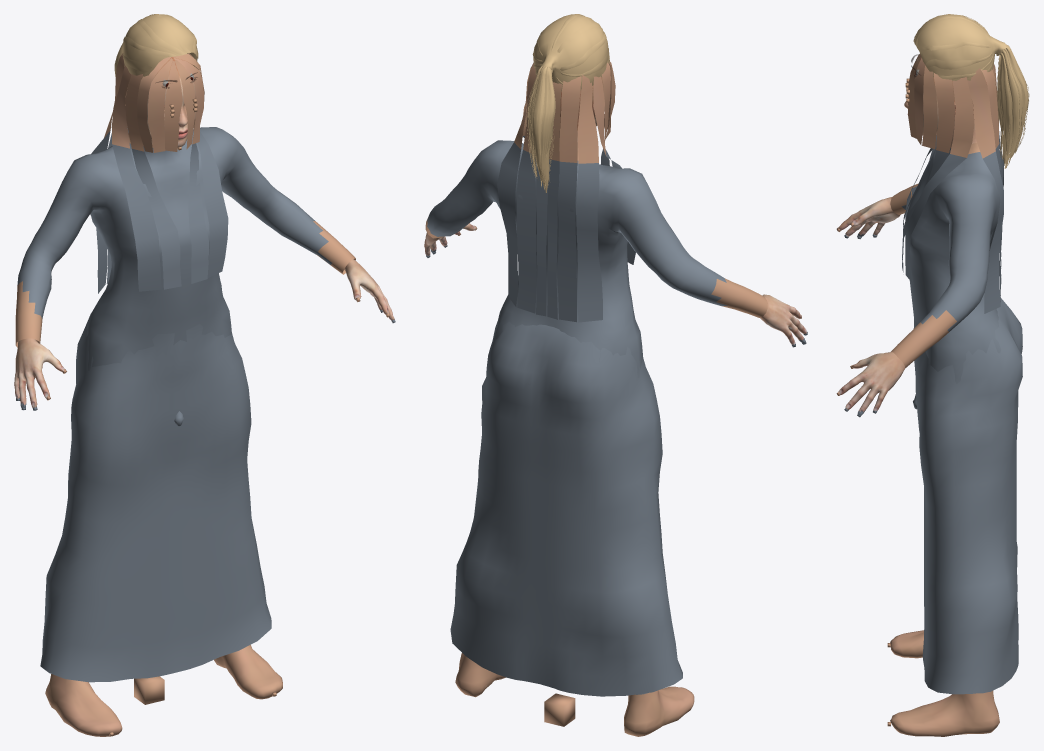
Rendered from Nova_V03_Anatomy_Review.glb.
The picture shows the model from 3 angles, left to right: view 1: azimuth 30°, elevation 25°; view 2: azimuth 150°, elevation 25°; view 3: azimuth 270°, elevation 25°; orthographic projection.
Parts seen in each view (by area): view 1: Nova_Continuous_Anatomical_Basemesh, Nova_Continuous_Anatomical_Basemesh.ponytail01; view 2: Nova_Continuous_Anatomical_Basemesh, Nova_Continuous_Anatomical_Basemesh.ponytail01; view 3: Nova_Continuous_Anatomical_Basemesh, Nova_Continuous_Anatomical_Basemesh.ponytail01.
Part boxes in pixels (x1,y1,x2,y2): Nova_Continuous_Anatomical_Basemesh: (14,53,395,736); Nova_Continuous_Anatomical_Basemesh.ponytail01: (114,14,198,91); Nova_Continuous_Anatomical_Basemesh: (424,61,807,736); Nova_Continuous_Anatomical_Basemesh.ponytail01: (526,14,609,192); Nova_Continuous_Anatomical_Basemesh: (836,54,1022,736); Nova_Continuous_Anatomical_Basemesh.ponytail01: (913,14,1029,168).
Bounding box in the file's own units: 1.04 × 1.84 × 0.4695.
Materials: 6 (4 with a texture image).
